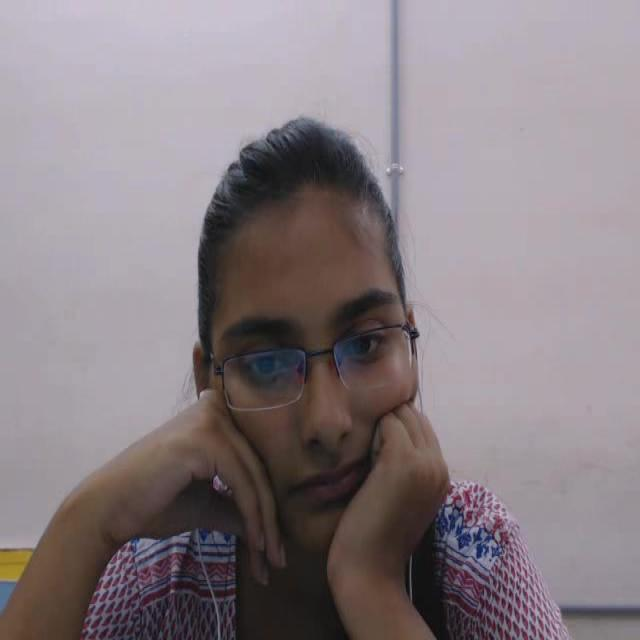Bored: (144, 79, 462, 573)
